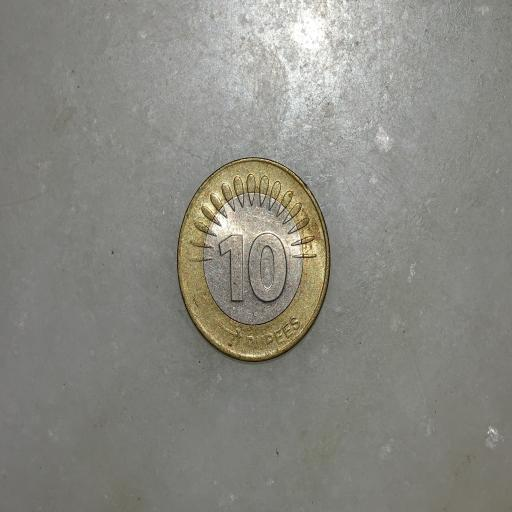rupee5: (176, 159, 330, 358)
